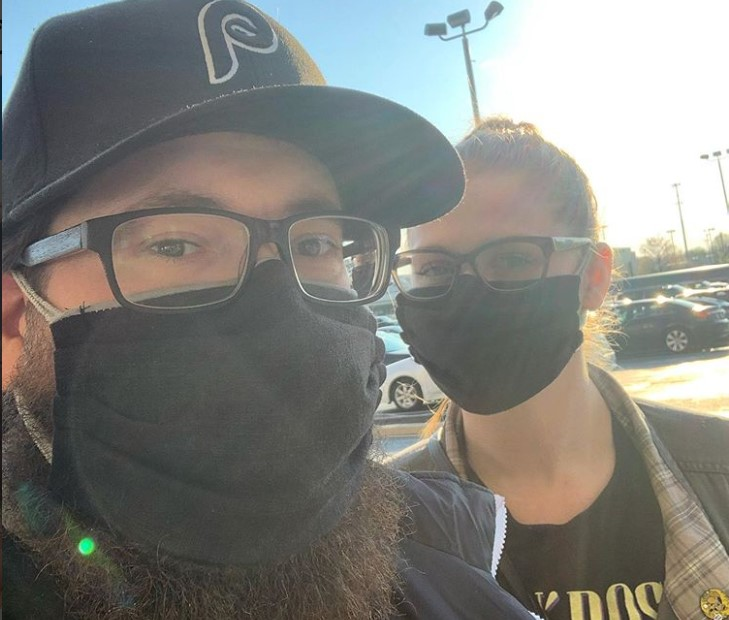face_with_mask: (11, 72, 397, 543), (398, 114, 610, 417)
